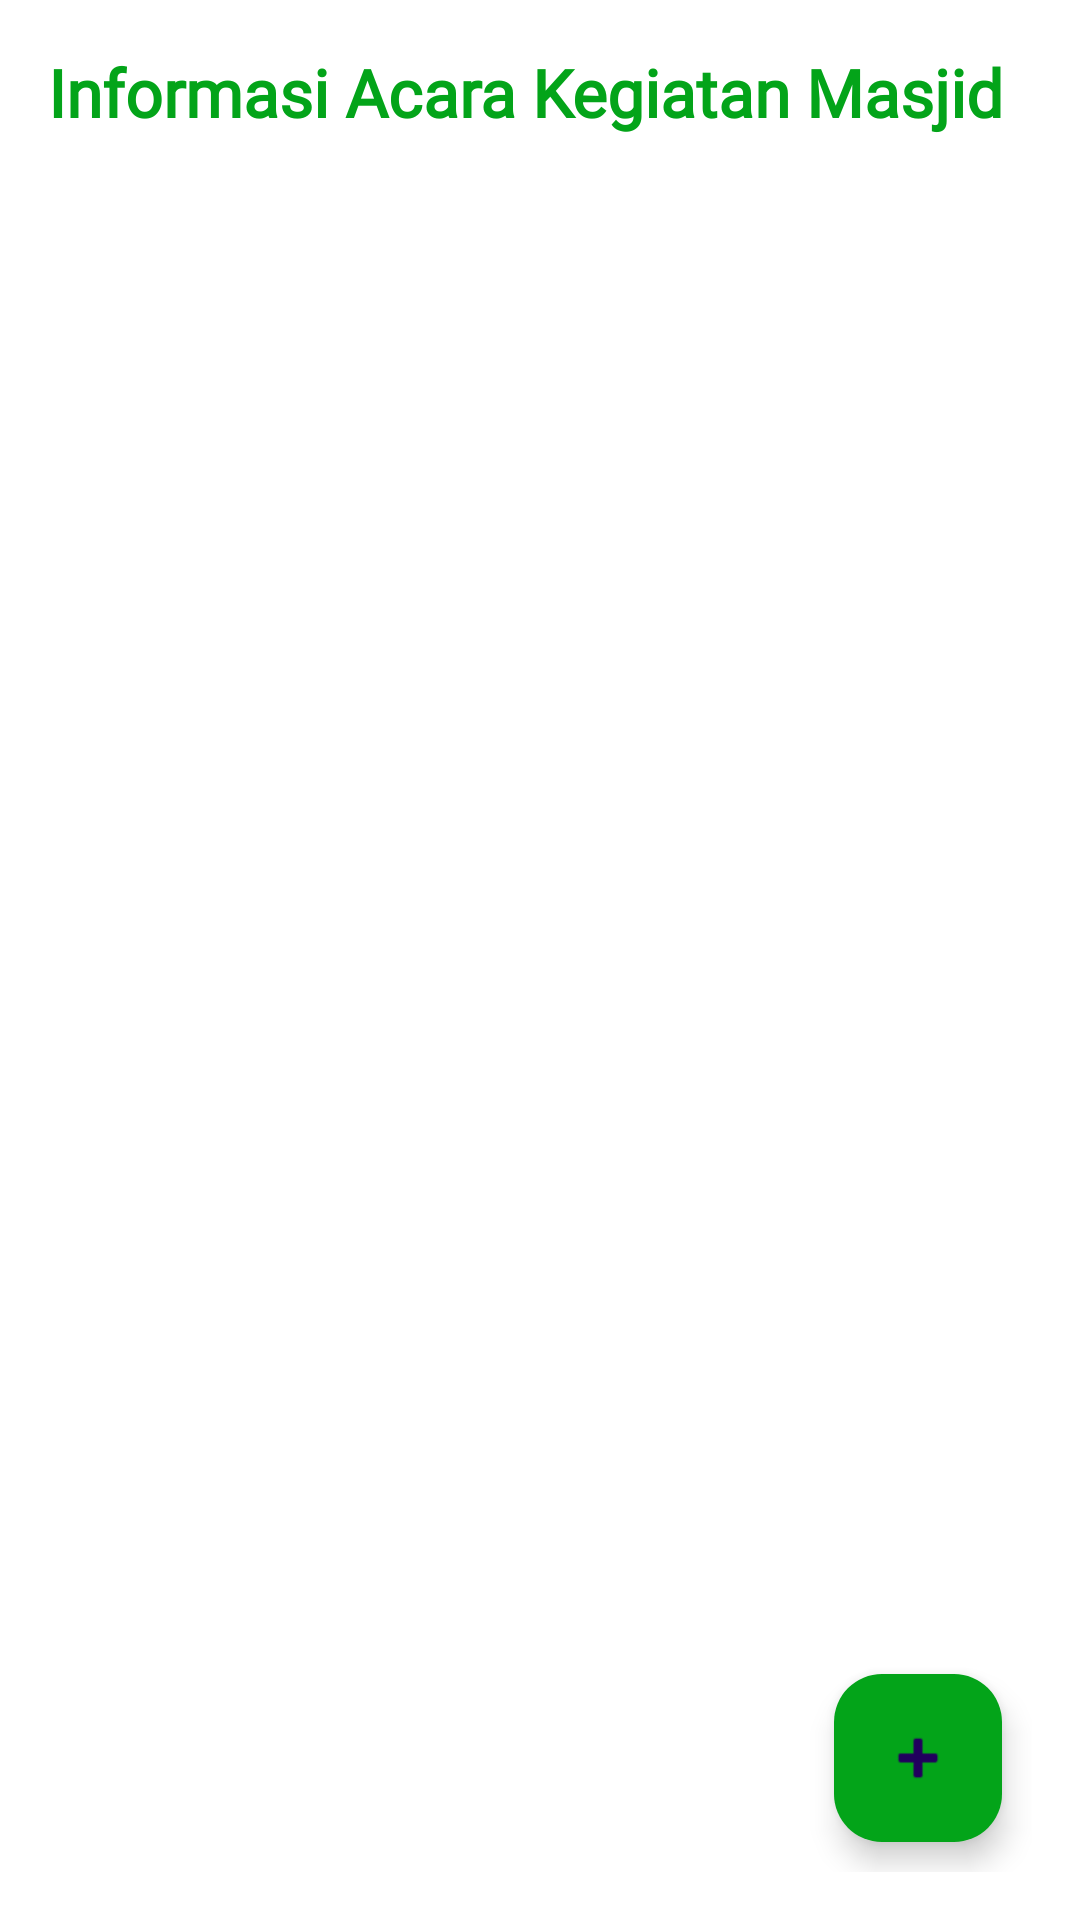

Named icons in this screenshot (1080px×1920px) and their centers, (x=x, y=y):
add: (x=918, y=1758)
